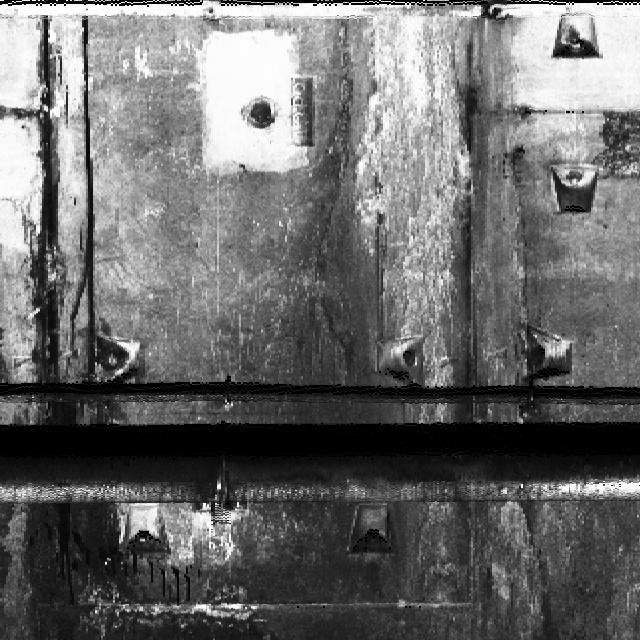leakage: (246, 6, 555, 427), (6, 492, 639, 639), (23, 6, 131, 422)
